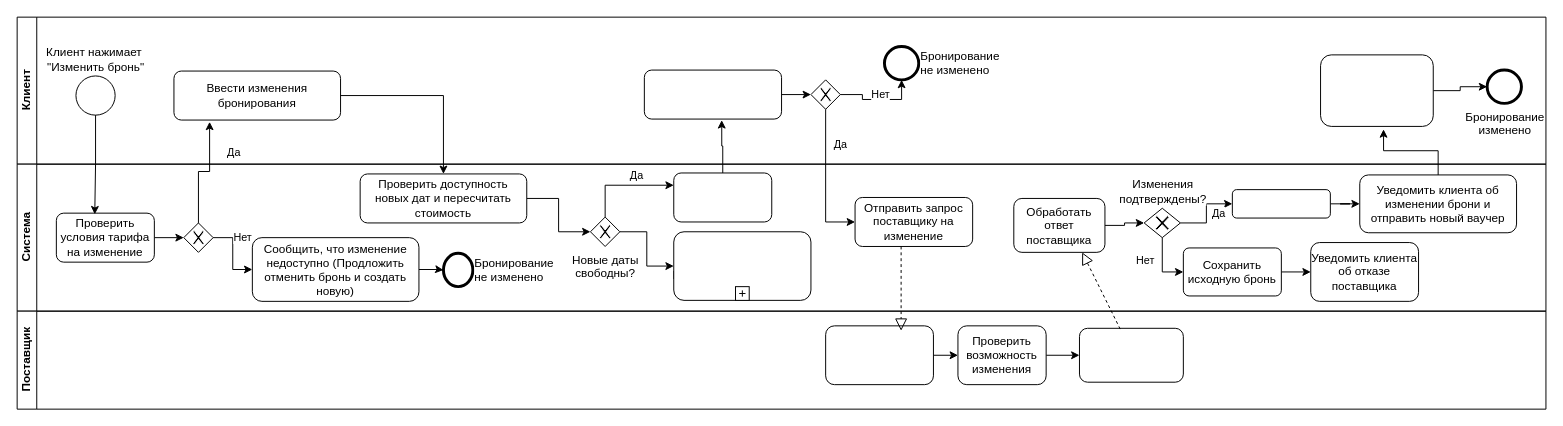
Image size: 1563x426. Some labels were removed from this diagram. Each missing label, with the centre of its shape:
Изменение разрешено?: (198,237)
Обновить бронь: (1280,203)
Отправить ответ (подтверждение/отказ): (1130,354)
Подтвердить изменения и доплату (если требуется): (712,94)
Подтверждено изменение?: (825,94)
Показать новую стоимость: (722,197)
Получение запроса на изменения бронирования: (879,355)
Получить новый ваучер: (1376,90)
Предложить ближайшие доступные варианты: (742,265)
